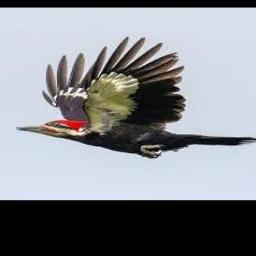Woodpecker: (14, 36, 256, 159)
